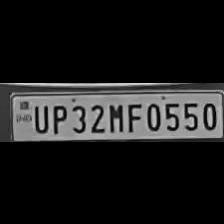0: (142, 99, 162, 130), (200, 99, 218, 129)
2: (87, 100, 105, 132)
3: (68, 100, 86, 132)
5: (162, 98, 180, 130), (181, 98, 199, 130)
F: (124, 99, 142, 131)
M: (106, 100, 124, 132)
P: (48, 101, 68, 133)
U: (30, 102, 48, 132)
